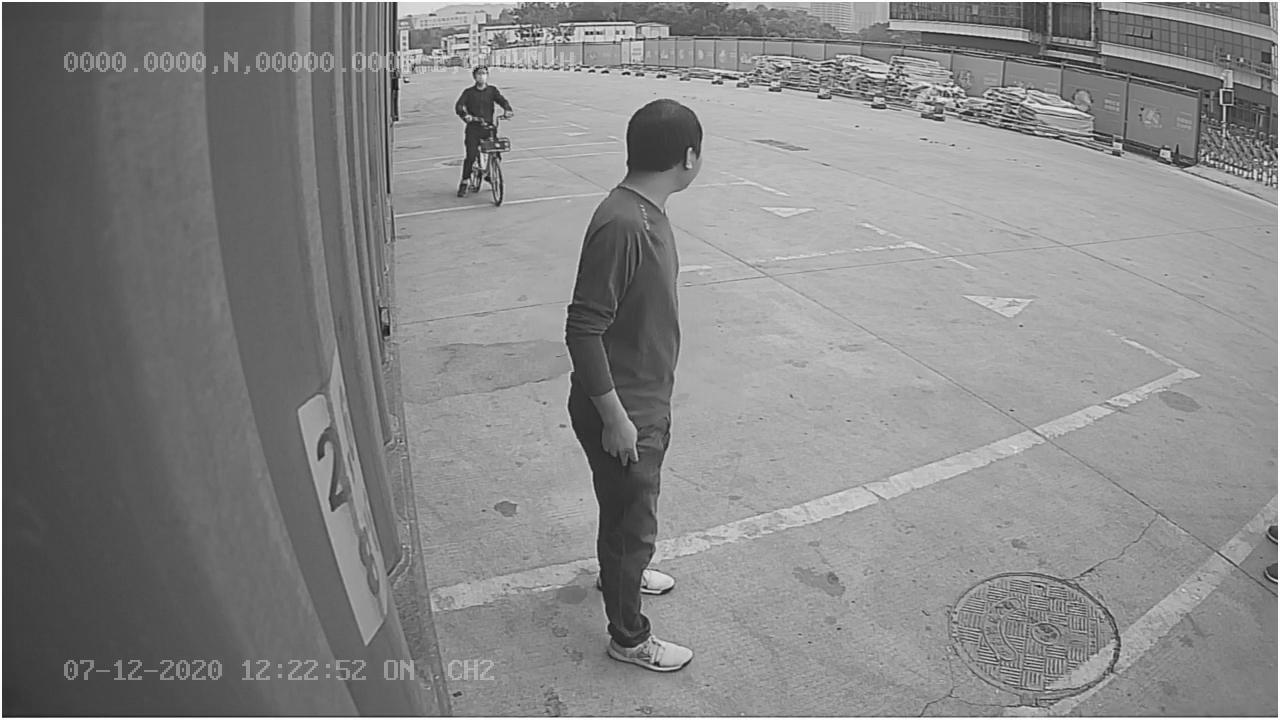person: (553, 93, 714, 676)
